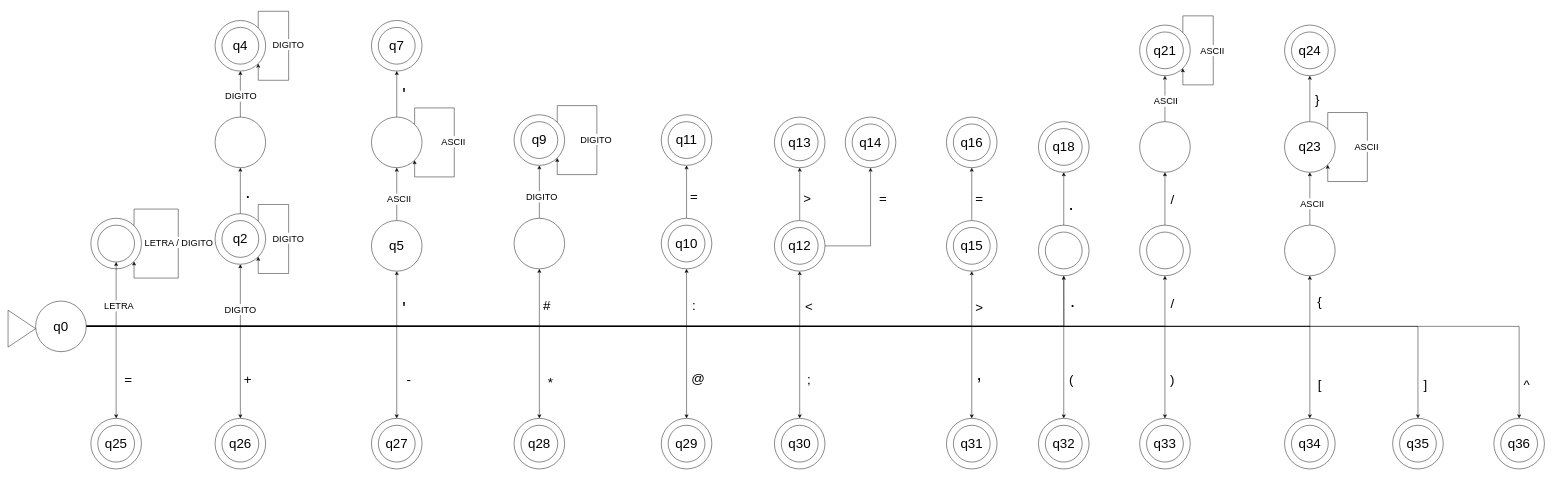
Some shapes in this 1553 by 477 pixel diagram are drawn without their labels. Here are the shapes that lost their labels. From the top down, the centre of each, then its label:
point 240,142: q3
point 396,142: q6
point 1164,146: q20
point 116,243: q1
point 539,243: q8
point 1063,250: q17
point 1164,250: q19
point 1309,250: q22
